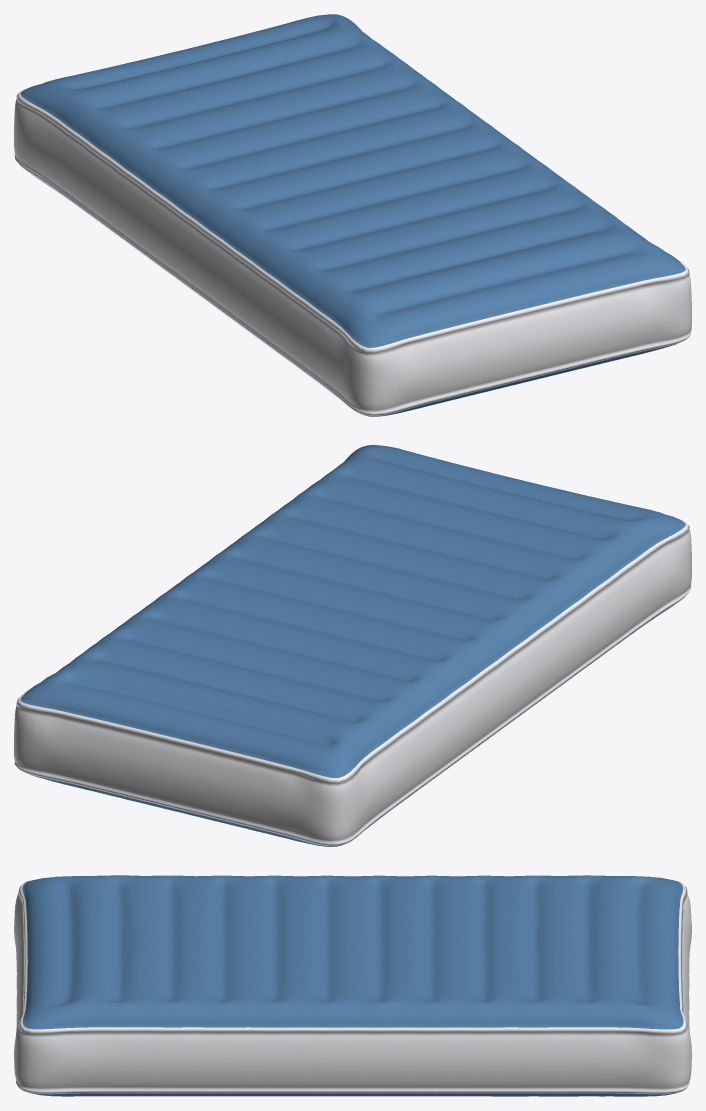
File: Bed49.fbx
3 renders of one model, top to bottom at view 1: azimuth 30°, elevation 25°; view 2: azimuth 150°, elevation 25°; view 3: azimuth 270°, elevation 25°, orthographic. The views are drawn at different scales.
Parts seen in each view (by area): view 1: Mattress49; view 2: Mattress49; view 3: Mattress49.
Part boxes in pixels (left/top/right/bottom): Mattress49: left=14, top=14, right=691, bottom=416; Mattress49: left=14, top=445, right=691, bottom=846; Mattress49: left=14, top=875, right=691, bottom=1096.
Size of the model in its own units: 122 by 36.93 by 227.
